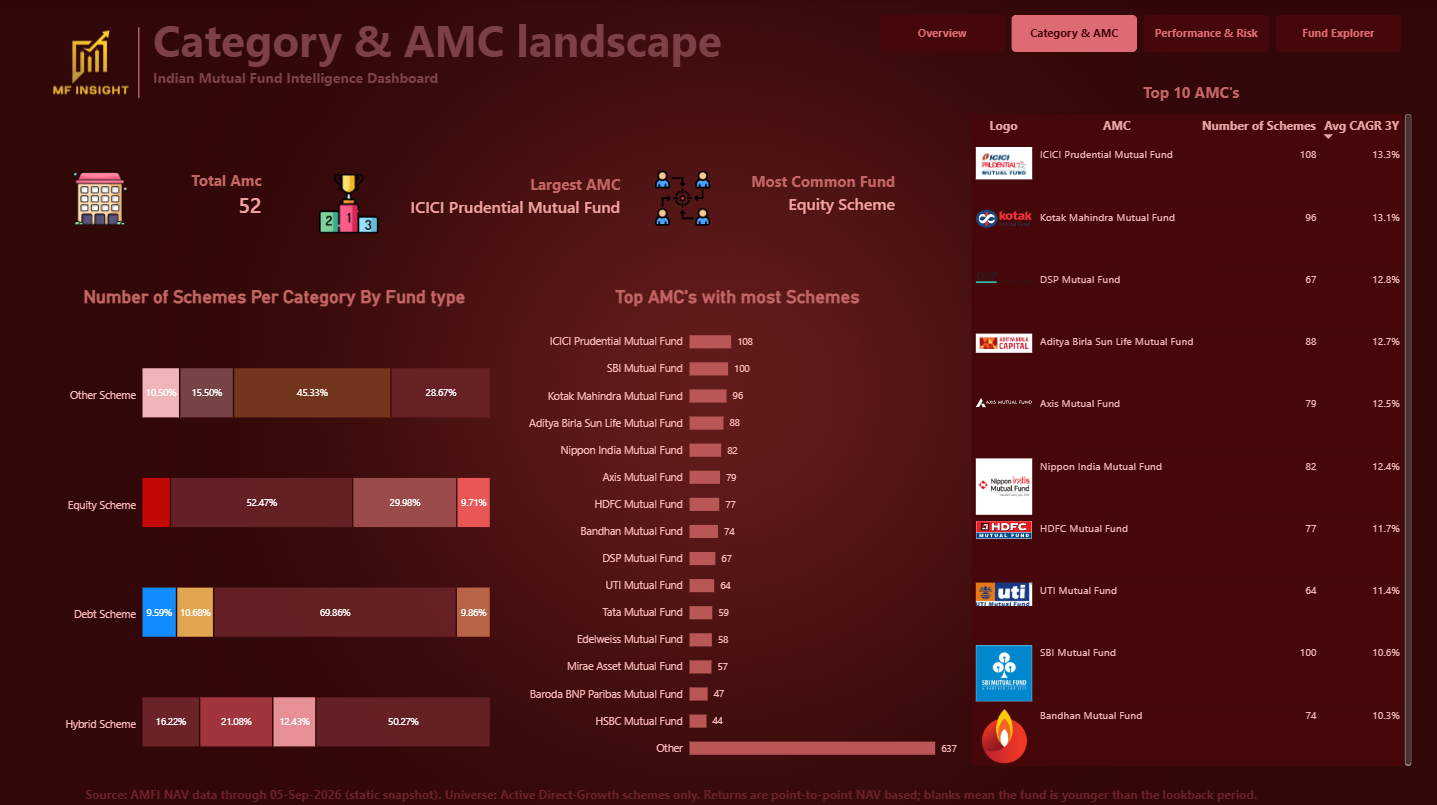

The dashboard page shown, as its layout file describes it:
{"tool":"powerbi","page":{"name":"Category & AMC landscape","canvas":[1920,1080],"ordinal":1},"visuals":[{"type":"cardVisual","fields":{"Data":["Table.Total Amc"]},"box":[82,200,286,140],"z":0},{"type":"cardVisual","fields":{"Data":["Table.Largest AMC"]},"box":[412,200,434,156],"z":1000},{"type":"cardVisual","fields":{"Data":["Table.Most Common Fund"]},"box":[860,202,352,138],"z":2000},{"type":"clusteredBarChart","title":"Top AMC''s with most Schemes","fields":{"Category":["processed.Is Top 15 AMC"],"Y":["Count(processed.scheme_code)"]},"box":[690,386,592,640],"z":3000},{"type":"hundredPercentStackedBarChart","title":"Number of Schemes Per Category By Fund type","fields":{"Category":["processed.category_group_clean"],"Y":["Count(processed.scheme_code)"],"Series":["processed.Category Sub Grouped"]},"box":[82,386,574,680],"z":4000},{"type":"tableEx","title":"Top 10 AMC''s","fields":{"Values":["amc_logo_mapping_result.logo_url","amc_logo_mapping_result.amc","Count(processed.scheme_code)","Table.Avg CAGR 3Y"]},"box":[1296.7,164.7,588.7,862.4],"z":5000},{"type":"image","box":[50,38,146,94],"z":6000},{"type":"shape","box":[82,42,212,94],"z":7000},{"type":"textbox","box":[206.7,0,894,152],"z":8000},{"type":"textbox","box":[116.7,1053.3,1650,26],"z":8001},{"type":"pageNavigator","box":[1175,25,698,50],"z":8002}]}

Visuals, with their boxes in screenshot pixels (x1, y1, x2, y2), scaled from the page's 1920x1080 canvas onto the 1437x805 screenshot:
cardVisual - Table.Total Amc: (61,149,275,253)
cardVisual - Table.Largest AMC: (308,149,633,265)
cardVisual - Table.Most Common Fund: (644,151,907,253)
"Top AMC''s with most Schemes" clusteredBarChart: (516,288,959,765)
"Number of Schemes Per Category By Fund type" hundredPercentStackedBarChart: (61,288,491,795)
"Top 10 AMC''s" tableEx: (970,123,1411,766)
image: (37,28,147,98)
shape: (61,31,220,101)
textbox: (155,0,824,113)
textbox: (87,785,1322,804)
pageNavigator: (879,19,1402,56)
